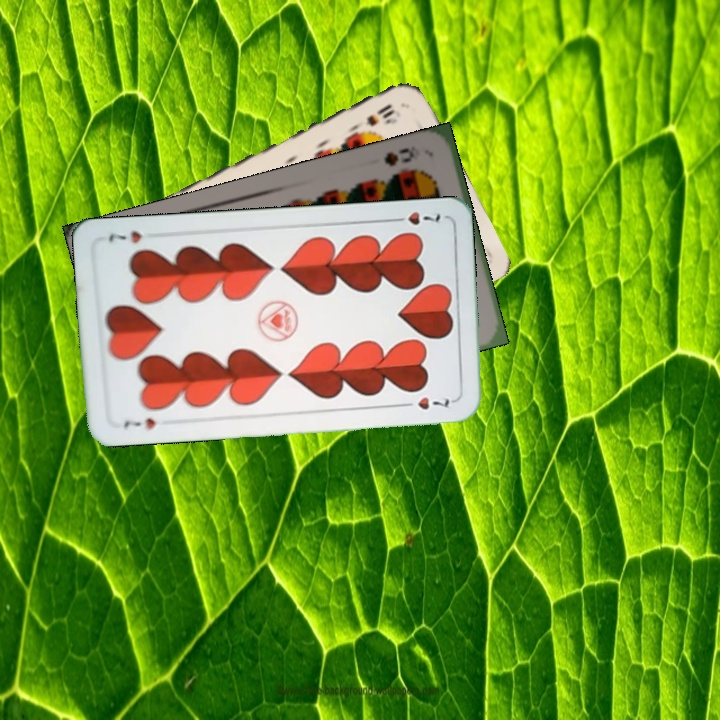H7: (387, 208, 443, 228), (120, 413, 158, 431)
S10: (361, 100, 398, 129)
S8: (380, 141, 423, 169)
